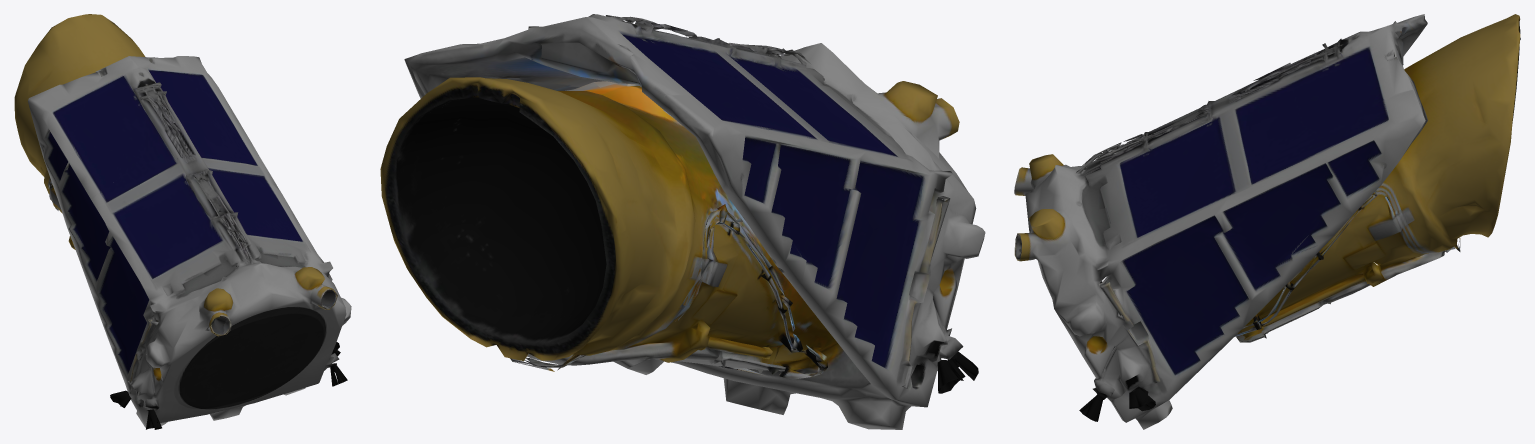
Rendered from kepler.glb.
3 views of the same model, side by side, from view 1: azimuth 30°, elevation 25°; view 2: azimuth 150°, elevation 25°; view 3: azimuth 270°, elevation 25° (orthographic). The views are drawn at different scales.
Parts seen in each view (by area): view 1: tripo_node_da9dcf81-7e4f-41d1-abd9-2ea830666778; view 2: tripo_node_da9dcf81-7e4f-41d1-abd9-2ea830666778; view 3: tripo_node_da9dcf81-7e4f-41d1-abd9-2ea830666778.
Part boxes in pixels (bbox=[...]): tripo_node_da9dcf81-7e4f-41d1-abd9-2ea830666778: bbox=[14, 14, 351, 429]; tripo_node_da9dcf81-7e4f-41d1-abd9-2ea830666778: bbox=[380, 14, 985, 429]; tripo_node_da9dcf81-7e4f-41d1-abd9-2ea830666778: bbox=[1014, 14, 1520, 429].
Size of the model in its own units: 1.63 by 2 by 2.49.
Materials: 1 (1 with a texture image).
